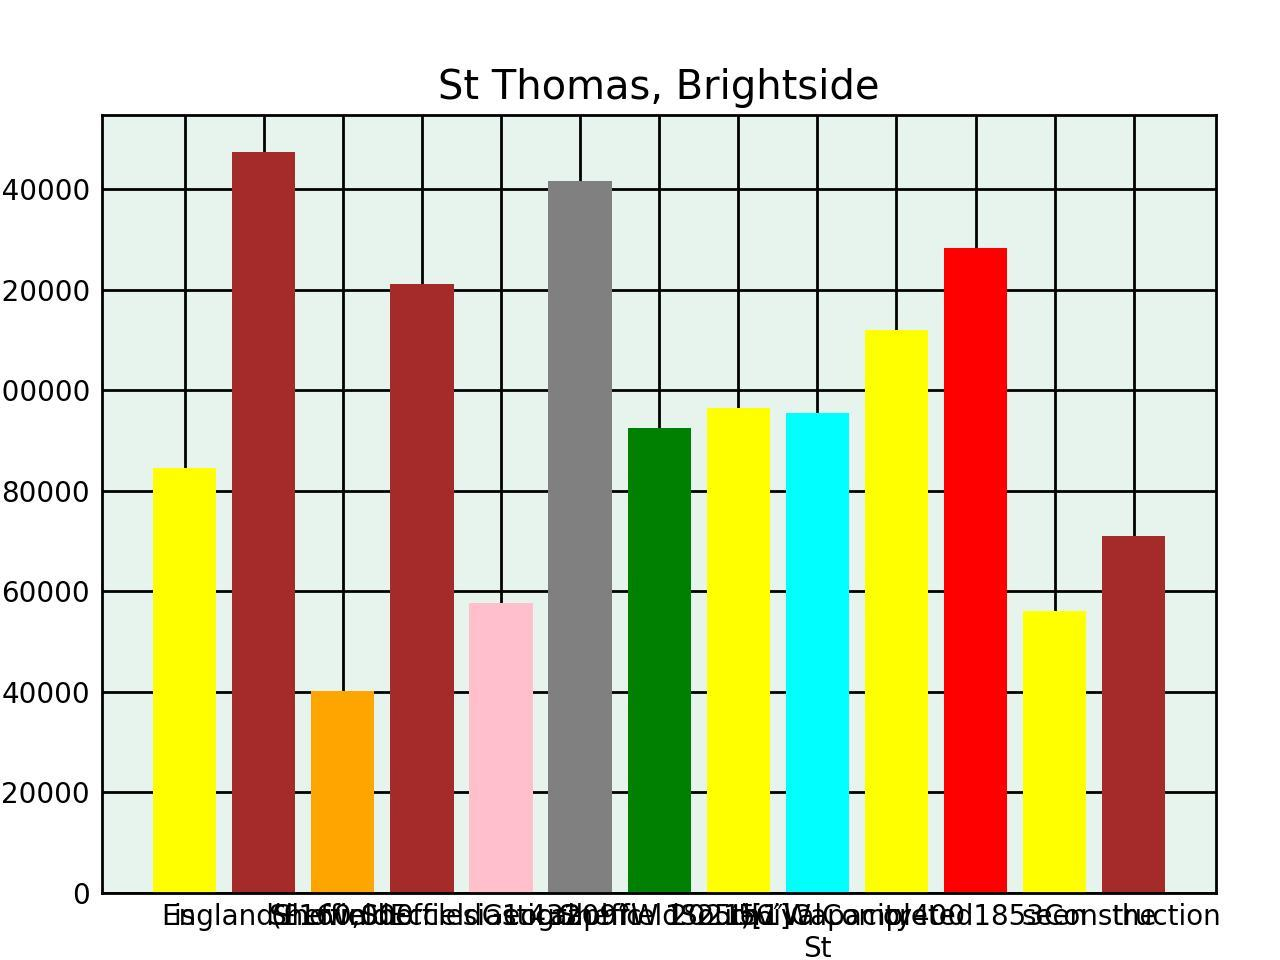axis: (0, 178, 90, 910)
rectangle: (232, 152, 295, 893), (548, 181, 612, 893), (944, 248, 1007, 893), (390, 284, 454, 892), (865, 330, 928, 893), (707, 408, 770, 893), (786, 413, 849, 893), (628, 428, 690, 893), (153, 468, 216, 892), (1102, 536, 1165, 893), (470, 602, 532, 892), (1023, 611, 1086, 893), (311, 691, 375, 893)
